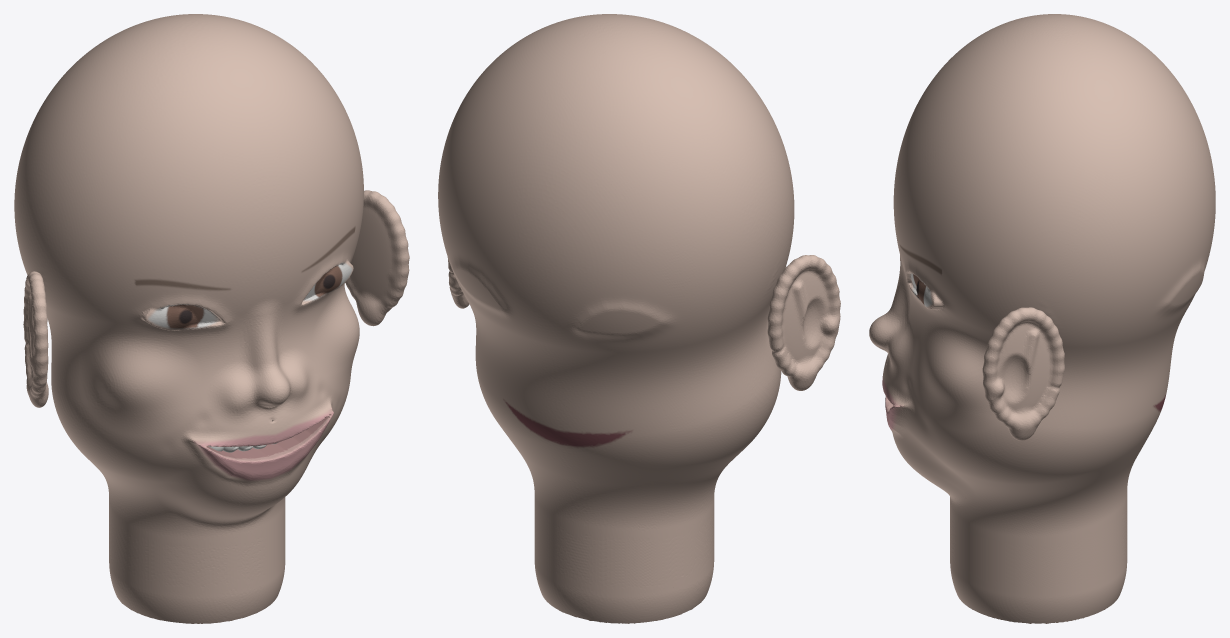
The model's file is karma_face_stage1_O_smile_EXPERIMENT.glb.
3 renders of one model, left to right at view 1: azimuth 30°, elevation 25°; view 2: azimuth 150°, elevation 25°; view 3: azimuth 270°, elevation 25°, orthographic.
Visible parts, largest first — view 1: head; view 2: head; view 3: head.
Part boxes in pixels (x1=…): head: x1=14, y1=14, x2=409, y2=623; head: x1=438, y1=14, x2=840, y2=623; head: x1=869, y1=14, x2=1215, y2=623.
Bounding box in the file's own units: 2.7 × 3.83 × 2.15.
